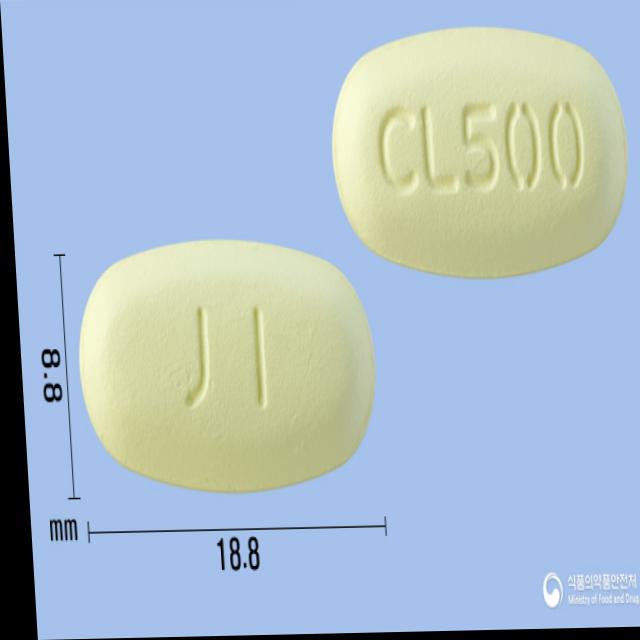Jecli: (69, 233, 376, 496), (325, 23, 632, 282)
